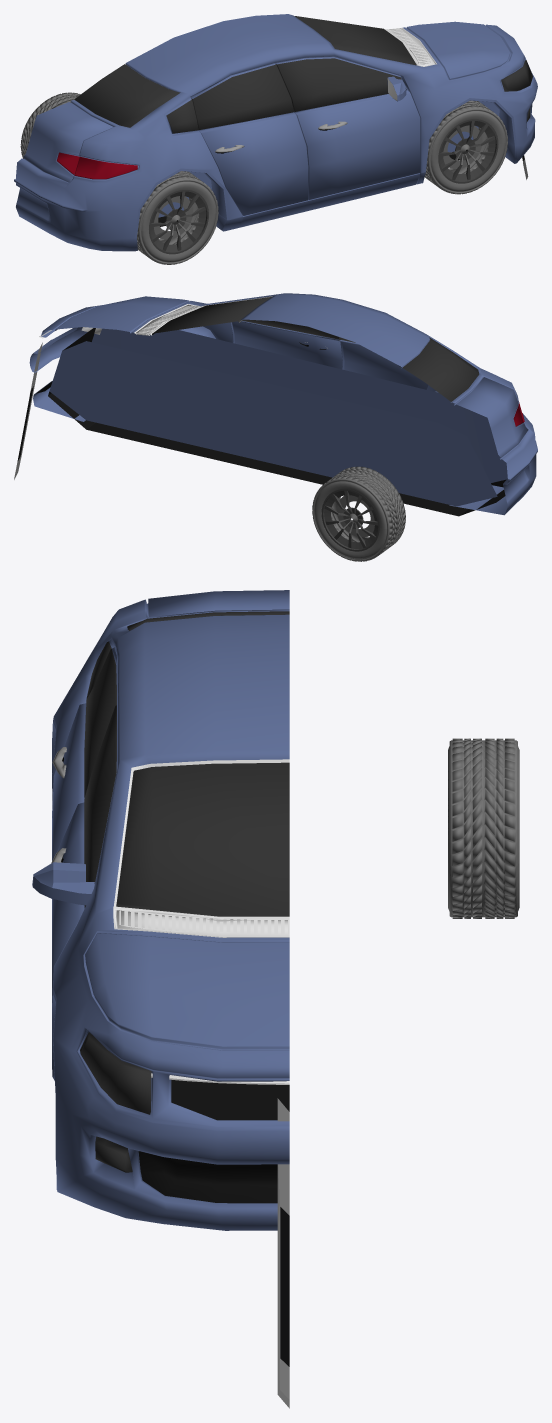
Rendered from carrrr.fbx.
3 views of the same model, one above another, from view 1: azimuth 30°, elevation 25°; view 2: azimuth 150°, elevation 25°; view 3: azimuth 270°, elevation 25° (orthographic). The views are drawn at different scales.
Parts seen in each view (by area): view 1: carr, roda.000, roda.001, roda.002, grade3, Retrovisor.001; view 2: carr, roda.002, Cube.001, grade3; view 3: carr, roda.002, Cube.001, Retrovisor.001, grade3.
Part boxes in pixels (x1,y1,x2,y2): carr: (14,14,537,251); roda.000: (424,100,507,194); roda.001: (137,171,218,264); roda.002: (20,92,80,158); grade3: (387,28,431,64); Retrovisor.001: (387,76,406,101); carr: (29,293,537,516); roda.002: (312,466,405,561); Cube.001: (14,342,42,479); grade3: (136,305,201,335); carr: (52,590,289,1230); roda.002: (448,738,519,918); Cube.001: (277,1098,289,1408); Retrovisor.001: (32,862,94,905); grade3: (119,909,289,934).
Bounding box in the file's own units: 509 × 221 × 217.
